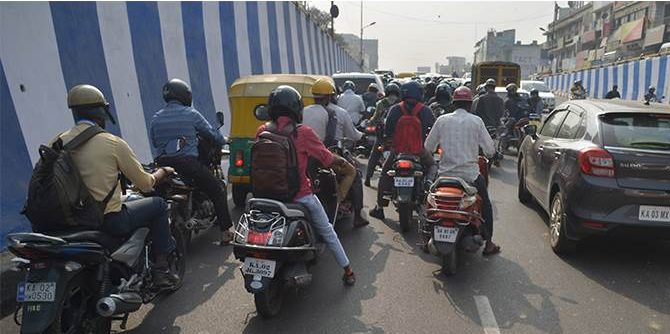bike: (1, 85, 184, 334), (235, 86, 355, 307), (515, 99, 670, 255), (427, 87, 501, 276), (135, 81, 226, 233), (370, 80, 436, 239), (502, 85, 535, 157), (477, 78, 503, 159)
